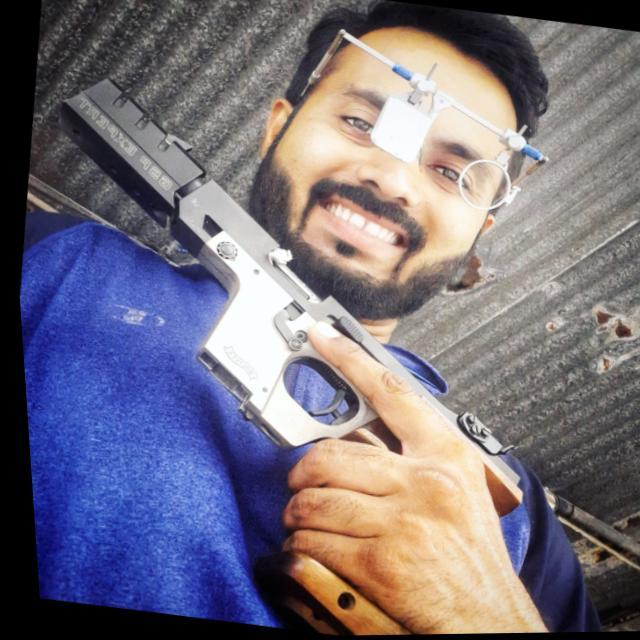weapon: (4, 58, 582, 640)
